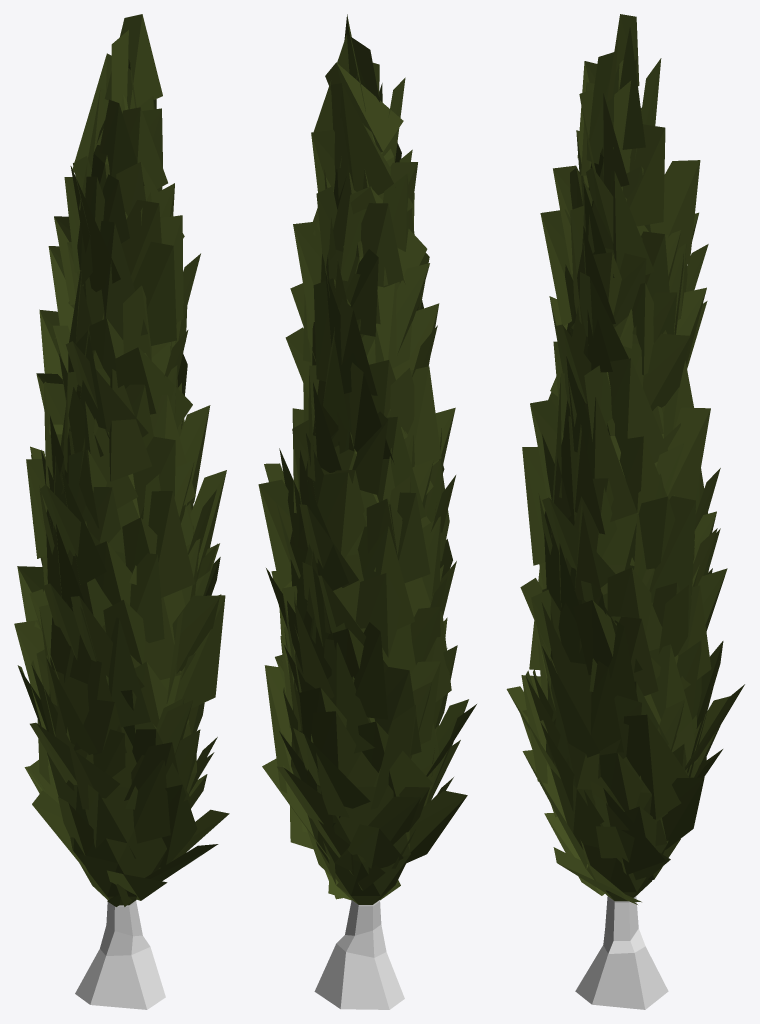
Rendered from SM_Tree_Cypress_Young_A.fbx.
3 renders of one model, left to right at view 1: azimuth 30°, elevation 25°; view 2: azimuth 150°, elevation 25°; view 3: azimuth 270°, elevation 25°, orthographic.
Parts seen in each view (by area): view 1: tree-cypress-young-a; view 2: tree-cypress-young-a; view 3: tree-cypress-young-a.
Boxes of the visible parts, x1,y1,x2,y2 form: tree-cypress-young-a: [14, 14, 229, 1009]; tree-cypress-young-a: [258, 14, 476, 1009]; tree-cypress-young-a: [506, 14, 744, 1009].
Size of the model in its own units: 0.9605 by 4.73 by 1.04.
